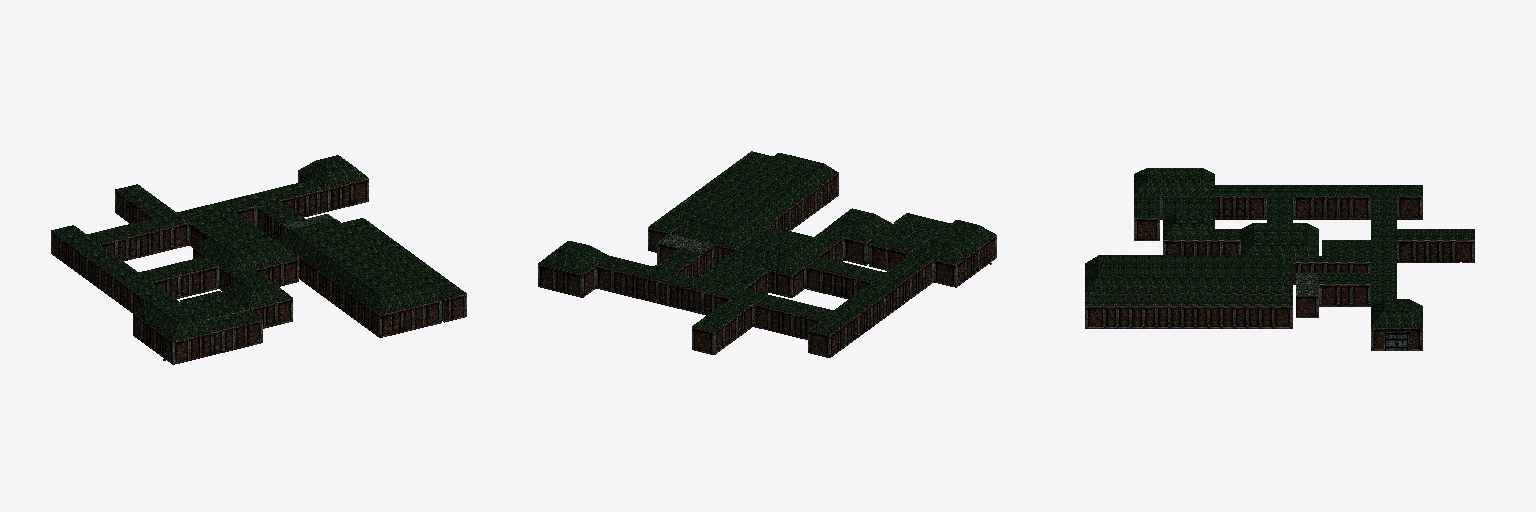
The picture shows the model from 3 angles: view 1: azimuth 30°, elevation 25°; view 2: azimuth 150°, elevation 25°; view 3: azimuth 270°, elevation 25°; orthographic projection.
Parts seen in each view (by area): view 1: Room5, Room4, Room2, Room1, Room7, Room6, Room9, Room8, Room10, Room3; view 2: Room5, Room2, Room4, Room1, Room7, Room9, Room6, Room10, Room3, Room8; view 3: Room5, Room6, Room1, Room4, Room2, Room7, Room3, Room10, Room9, Room8.
Boxes of the visible parts, x1,y1,x2,y2 form: Room5: [276, 219, 441, 337]; Room4: [133, 270, 292, 364]; Room2: [87, 180, 323, 260]; Room1: [51, 225, 218, 312]; Room7: [193, 226, 298, 290]; Room6: [342, 218, 466, 322]; Room9: [298, 155, 368, 212]; Room8: [206, 310, 262, 353]; Room10: [115, 184, 176, 223]; Room3: [257, 200, 333, 239]; Room5: [673, 153, 838, 265]; Room2: [596, 256, 832, 339]; Room4: [815, 208, 996, 287]; Room1: [805, 253, 933, 357]; Room7: [725, 226, 830, 297]; Room9: [538, 241, 608, 297]; Room6: [648, 151, 772, 252]; Room10: [692, 298, 752, 354]; Room3: [654, 234, 713, 276]; Room8: [894, 213, 950, 235]; Room5: [1085, 255, 1292, 294]; Room6: [1085, 293, 1292, 328]; Room1: [1215, 185, 1422, 222]; Room4: [1134, 168, 1240, 254]; Room2: [1319, 196, 1396, 304]; Room7: [1241, 223, 1318, 284]; Room3: [1296, 273, 1370, 317]; Room10: [1397, 229, 1474, 262]; Room9: [1371, 299, 1422, 350]; Room8: [1134, 196, 1159, 240].
Bounding box in the file's own units: 3616 × 384 × 3840.
12 materials, 10 textured.